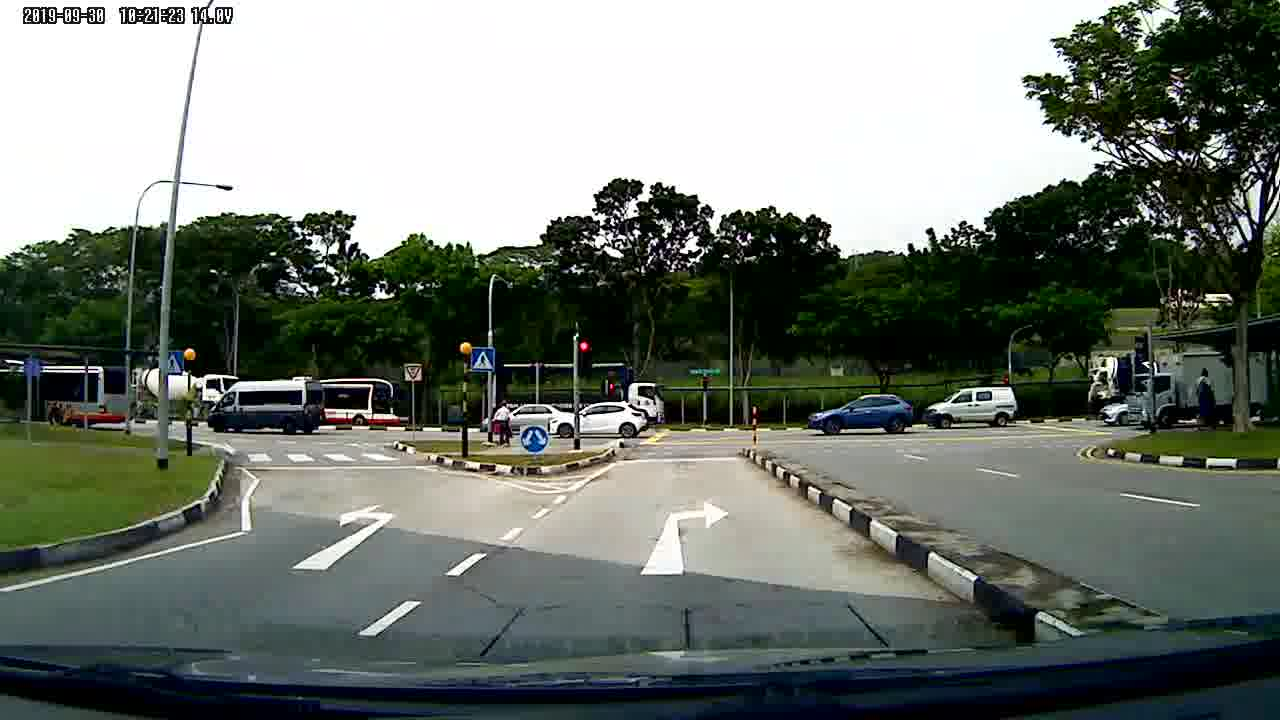bus: (1, 357, 137, 429), (317, 374, 412, 427)
car: (809, 395, 916, 436), (550, 399, 647, 438)
